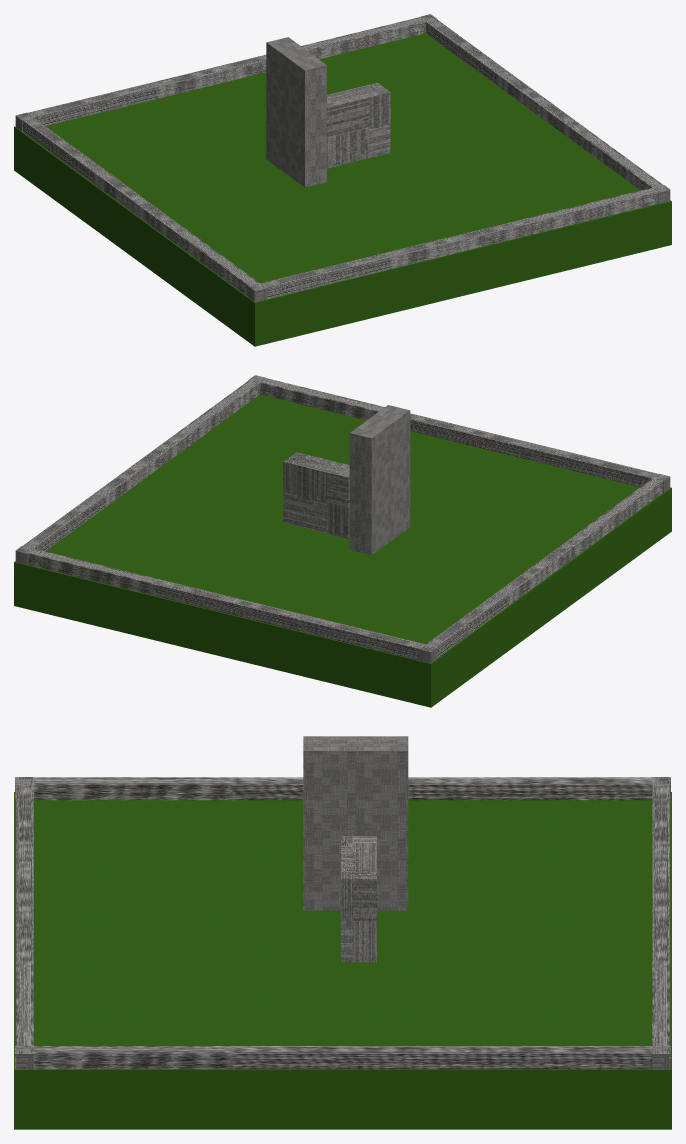
Rendered from world.glb.
3 views of the same model, one above another, from view 1: azimuth 30°, elevation 25°; view 2: azimuth 150°, elevation 25°; view 3: azimuth 270°, elevation 25° (orthographic). The views are drawn at different scales.
Parts seen in each view (by area): view 1: Cube.001, Cube.007, Cube.004, Cube.005, Cube.002, Cube.003, Cube; view 2: Cube.001, Cube.007, Cube.005, Cube.004, Cube.002, Cube.003, Cube; view 3: Cube.001, Cube.007, Cube.003, Cube.002, Cube.005, Cube.004, Cube.
Part boxes in pixels (box(x1,y1,x2,y2)): Cube.001: box(14, 33, 671, 346); Cube.007: box(266, 37, 326, 187); Cube.004: box(248, 185, 670, 302); Cube.005: box(15, 14, 437, 131); Cube.002: box(16, 112, 266, 302); Cube.003: box(419, 14, 670, 203); Cube: box(327, 82, 390, 168); Cube.001: box(14, 394, 671, 707); Cube.007: box(349, 405, 410, 555); Cube.005: box(15, 546, 437, 663); Cube.004: box(248, 375, 670, 492); Cube.002: box(419, 473, 669, 663); Cube.003: box(15, 375, 266, 564); Cube: box(283, 452, 349, 538); Cube.001: box(14, 792, 671, 1129); Cube.007: box(303, 736, 408, 910); Cube.003: box(15, 1046, 670, 1069); Cube.002: box(15, 777, 670, 800); Cube.005: box(652, 777, 669, 1069); Cube.004: box(16, 777, 33, 1069); Cube: box(341, 836, 376, 962).
Size of the model in its own units: 600 by 221 by 600.
Materials: 2 (2 with a texture image).
